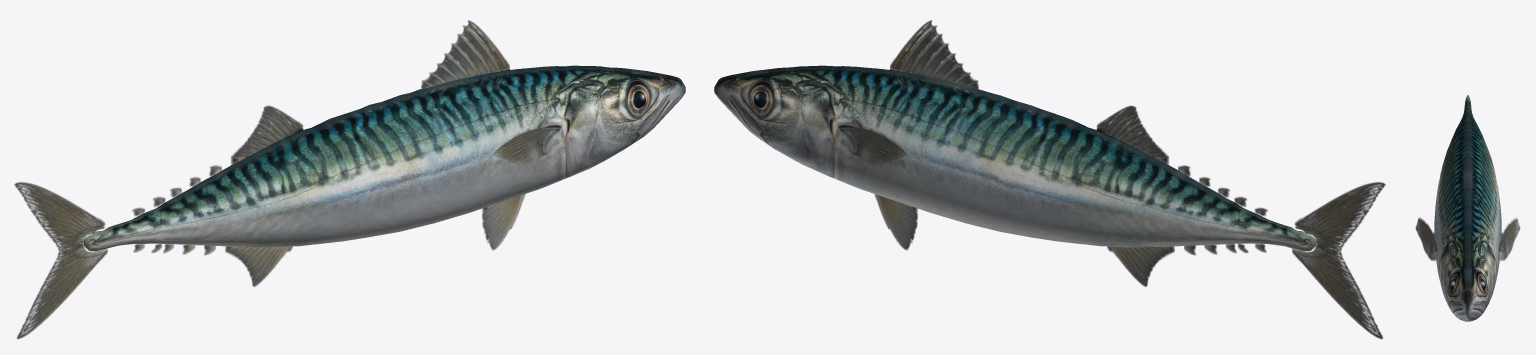
File: fish-mackerel.glb
3 renders of one model, left to right at view 1: azimuth 30°, elevation 25°; view 2: azimuth 150°, elevation 25°; view 3: azimuth 270°, elevation 25°, orthographic. The views are drawn at different scales.
Visible parts, largest first — view 1: scomber_scombrus; view 2: scomber_scombrus; view 3: scomber_scombrus.
Part boxes in pixels (x1,y1,x2,y2): scomber_scombrus: (14,20,685,338); scomber_scombrus: (714,20,1385,338); scomber_scombrus: (1415,95,1520,321).
Size of the model in its own units: 1.16 by 0.3915 by 0.2142.
Materials: 1 (1 with a texture image).
